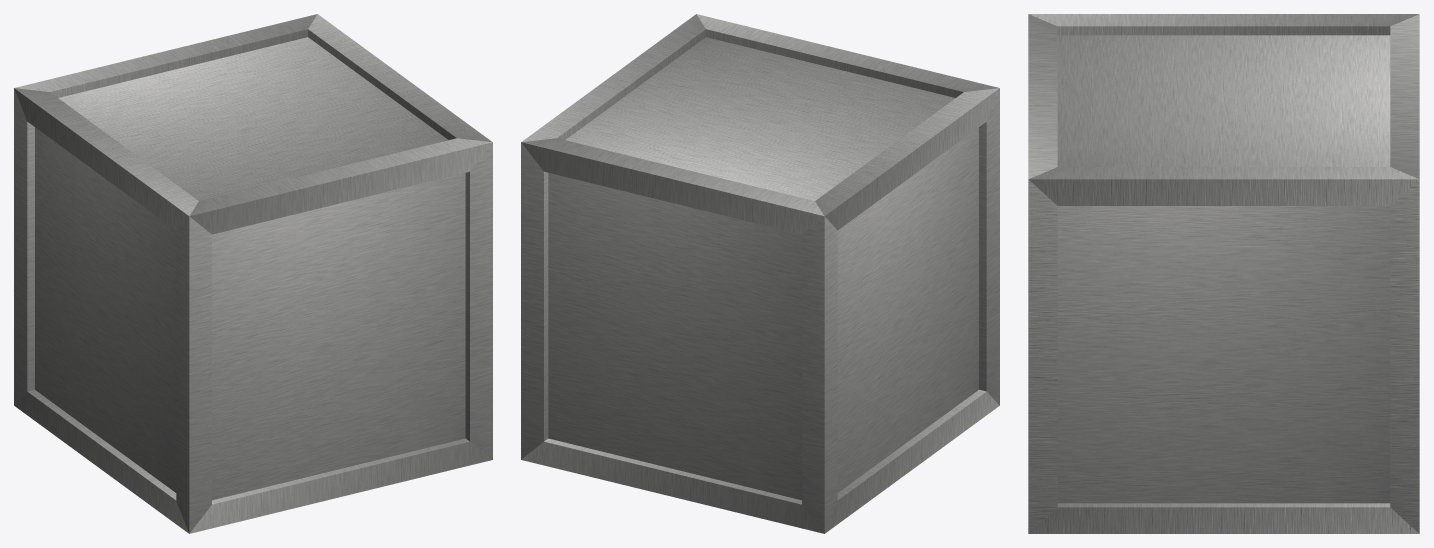
The model's file is MetalCrate.FBX.
3 renders of one model, left to right at view 1: azimuth 30°, elevation 25°; view 2: azimuth 150°, elevation 25°; view 3: azimuth 270°, elevation 25°, orthographic. The views are drawn at different scales.
Parts seen in each view (by area): view 1: Metal_Box; view 2: Metal_Box; view 3: Metal_Box.
Part boxes in pixels (x1,y1,x2,y2): Metal_Box: (14, 14, 492, 533); Metal_Box: (521, 14, 999, 533); Metal_Box: (1028, 14, 1419, 533).
Size of the model in its own units: 40 by 40 by 40.
1 material, 1 textured.
